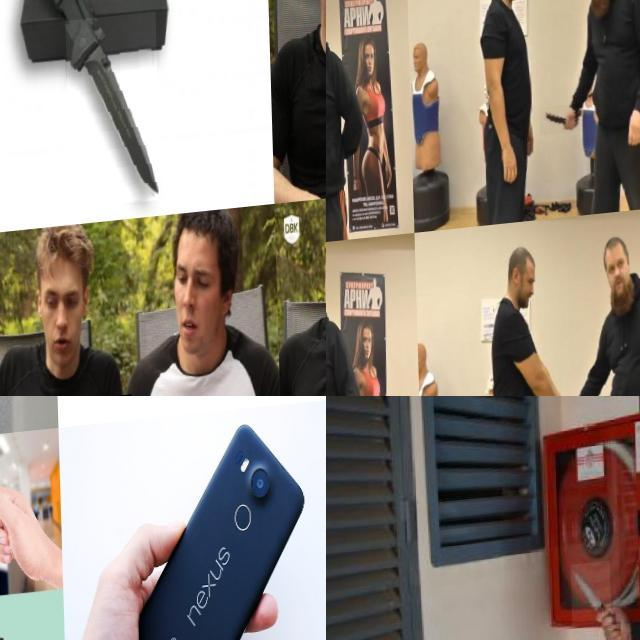-: (64, 17, 160, 212), (569, 568, 609, 632), (538, 114, 580, 146), (326, 12, 344, 51)
